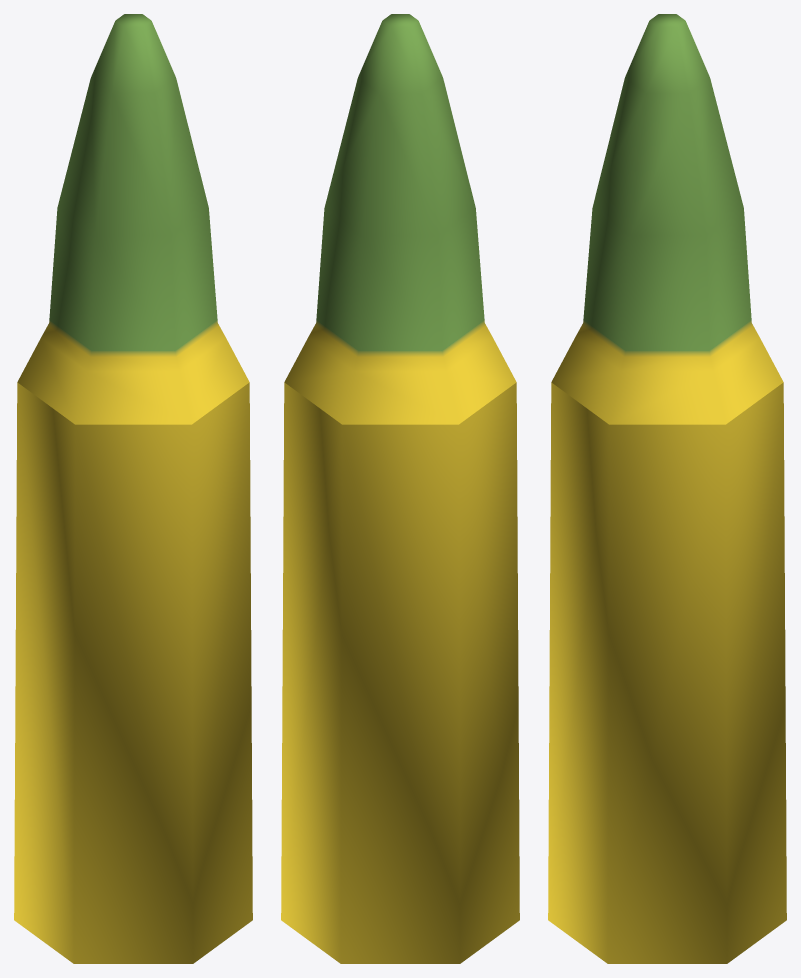
Rendered from 9.41smg_new.fbx.
3 renders of one model, left to right at view 1: azimuth 30°, elevation 25°; view 2: azimuth 150°, elevation 25°; view 3: azimuth 270°, elevation 25°, orthographic.
Visible parts, largest first — view 1: Cylinder.002; view 2: Cylinder.002; view 3: Cylinder.002.
Part boxes in pixels (x1=…): Cylinder.002: x1=14, y1=14, x2=252, y2=963; Cylinder.002: x1=281, y1=14, x2=519, y2=963; Cylinder.002: x1=548, y1=14, x2=786, y2=963.
Bounding box in the file's own units: 1.63 × 7.82 × 1.88.
Materials: 1 (1 with a texture image).
